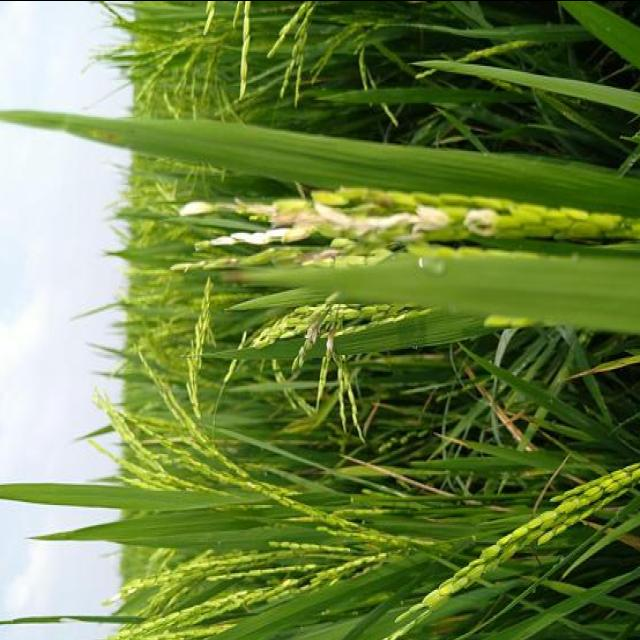Panicle Blight: (180, 187, 504, 266), (304, 320, 336, 351)
